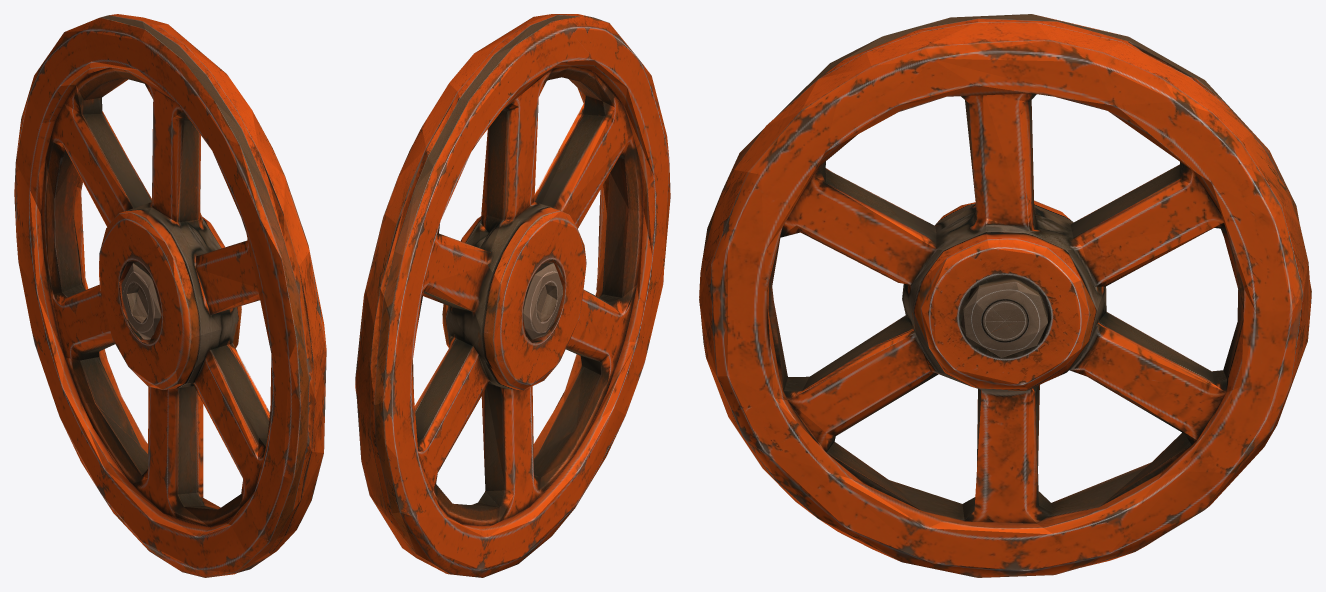
The model's file is ventil-koleso.glb.
3 renders of one model, left to right at view 1: azimuth 30°, elevation 25°; view 2: azimuth 150°, elevation 25°; view 3: azimuth 270°, elevation 25°, orthographic. The views are drawn at different scales.
Parts seen in each view (by area): view 1: ventil-koleso; view 2: ventil-koleso; view 3: ventil-koleso.
Boxes of the visible parts, left/top/right/bottom form: ventil-koleso: left=14, top=14, right=326, bottom=577; ventil-koleso: left=355, top=14, right=670, bottom=577; ventil-koleso: left=699, top=14, right=1311, bottom=577.
Bounding box in the file's own units: 0.07 × 0.45 × 0.45.
Materials: 1 (1 with a texture image).
